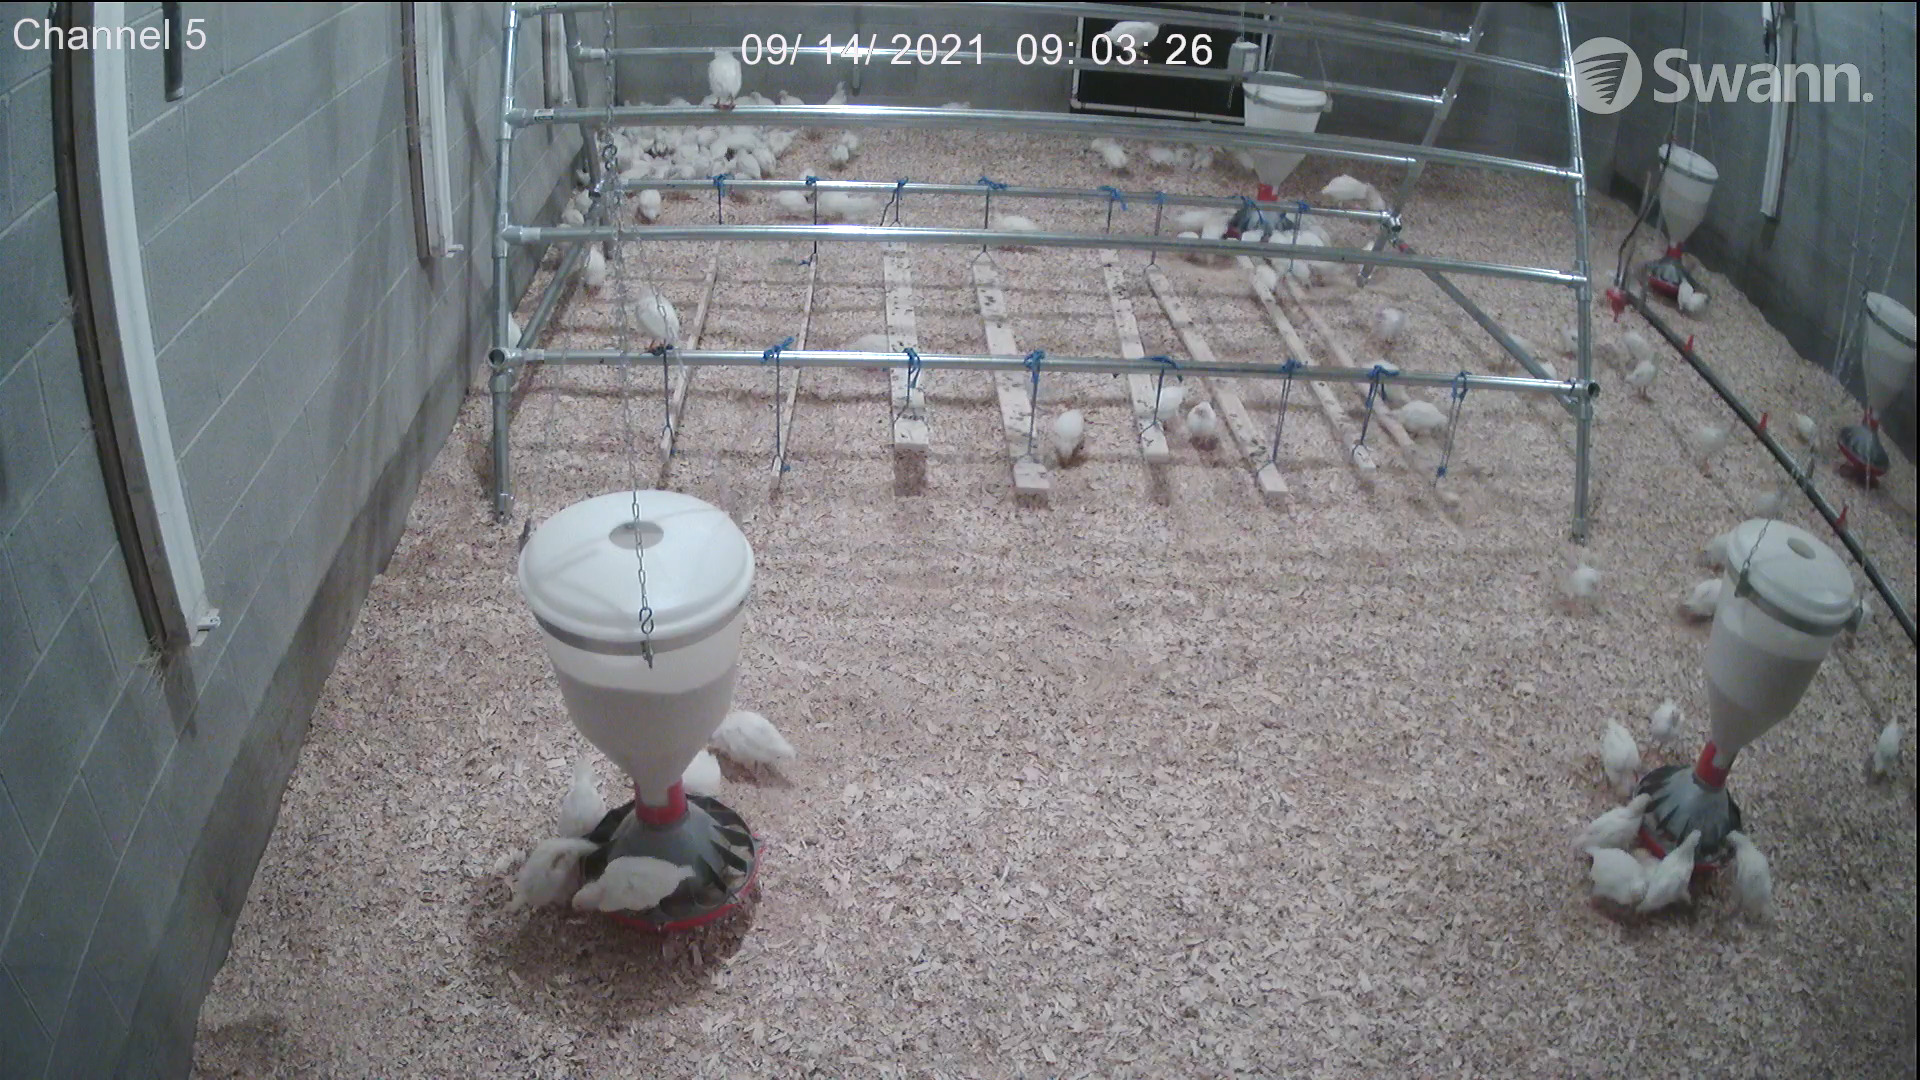Perching: (618, 282, 702, 371), (691, 44, 764, 109), (1093, 15, 1168, 75), (1308, 167, 1389, 219)
